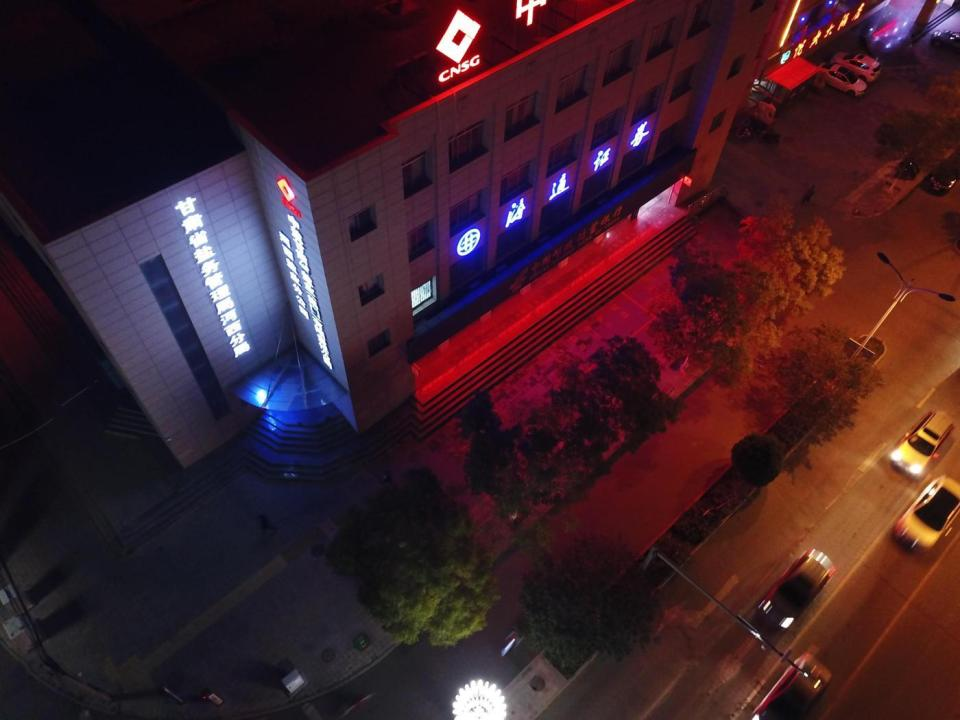car: (751, 549, 836, 639), (749, 652, 832, 720), (892, 475, 960, 552), (887, 411, 954, 480), (817, 63, 866, 97), (832, 51, 880, 81), (927, 150, 959, 192), (336, 691, 375, 717), (932, 29, 959, 48)
